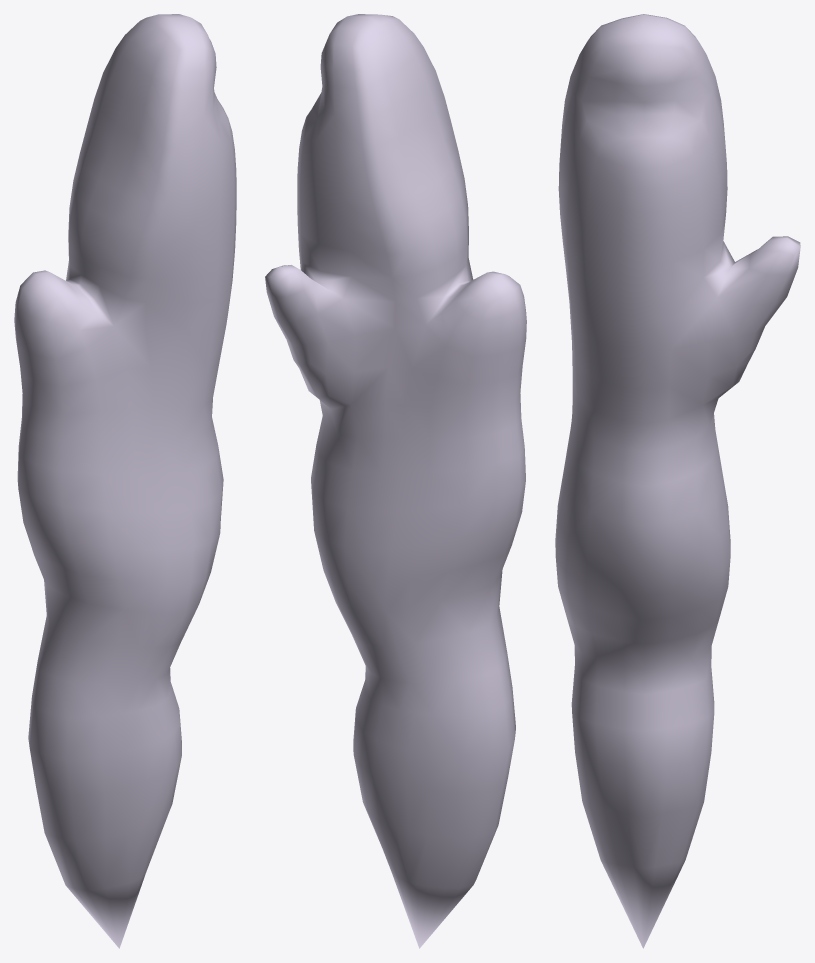
File: Bush_04.fbx
The picture shows the model from 3 angles, left to right: view 1: azimuth 30°, elevation 25°; view 2: azimuth 150°, elevation 25°; view 3: azimuth 270°, elevation 25°; orthographic projection. The views are drawn at different scales.
Parts seen in each view (by area): view 1: Bush_04; view 2: Bush_04; view 3: Bush_04.
Boxes of the visible parts, box(x1,y1,x2,y2) form: Bush_04: box(14, 14, 236, 948); Bush_04: box(265, 14, 526, 948); Bush_04: box(555, 14, 800, 948).
Size of the model in its own units: 238 by 970 by 225.
